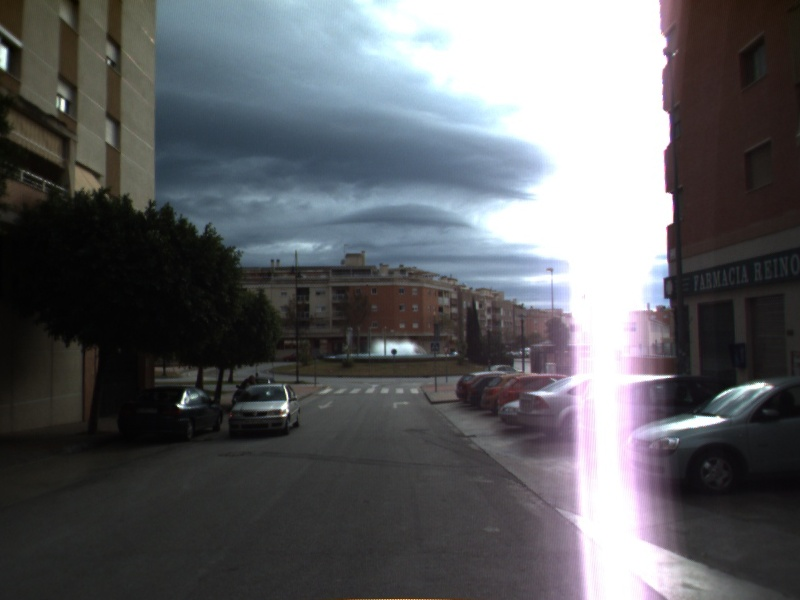RIGHT: (391, 398, 413, 411)
